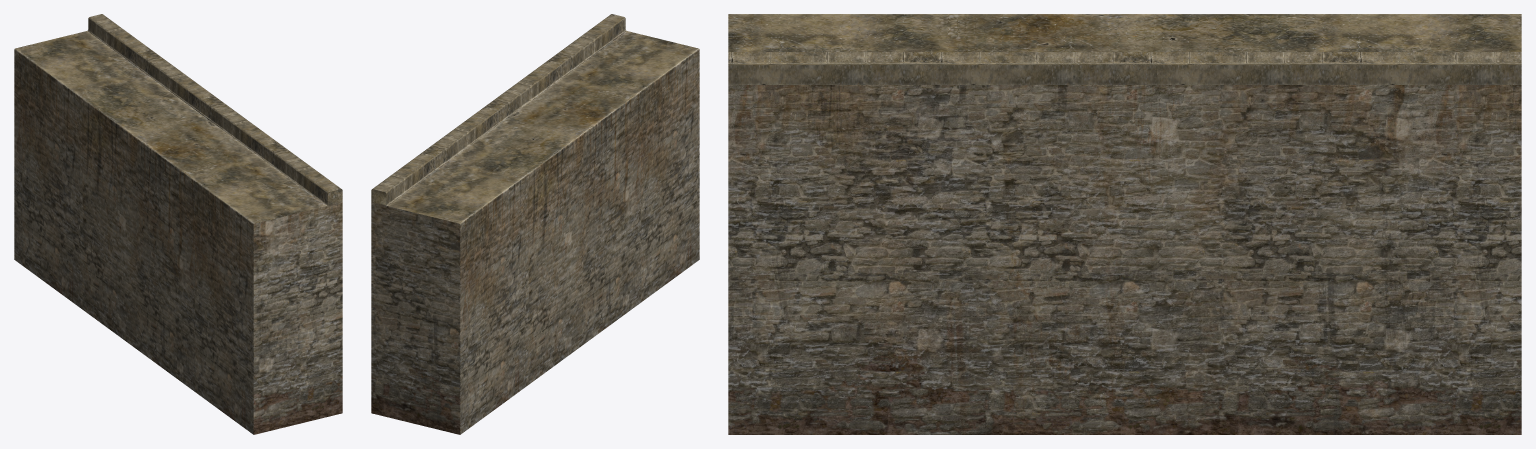
File: modular_fort_01_wall_walkway_straight_02.gltf
3 renders of one model, left to right at view 1: azimuth 30°, elevation 25°; view 2: azimuth 150°, elevation 25°; view 3: azimuth 270°, elevation 25°, orthographic. The views are drawn at different scales.
Parts seen in each view (by area): view 1: modular_fort_01_wall_walkway_straight_02__x; view 2: modular_fort_01_wall_walkway_straight_02__x; view 3: modular_fort_01_wall_walkway_straight_02__x.
Boxes of the visible parts, left/top/right/bottom form: modular_fort_01_wall_walkway_straight_02__x: left=14, top=14, right=342, bottom=434; modular_fort_01_wall_walkway_straight_02__x: left=371, top=14, right=699, bottom=434; modular_fort_01_wall_walkway_straight_02__x: left=728, top=14, right=1521, bottom=434.
Bounding box in the file's own units: 3.12 × 7.53 × 14.56.
Materials: 2 (2 with a texture image).
